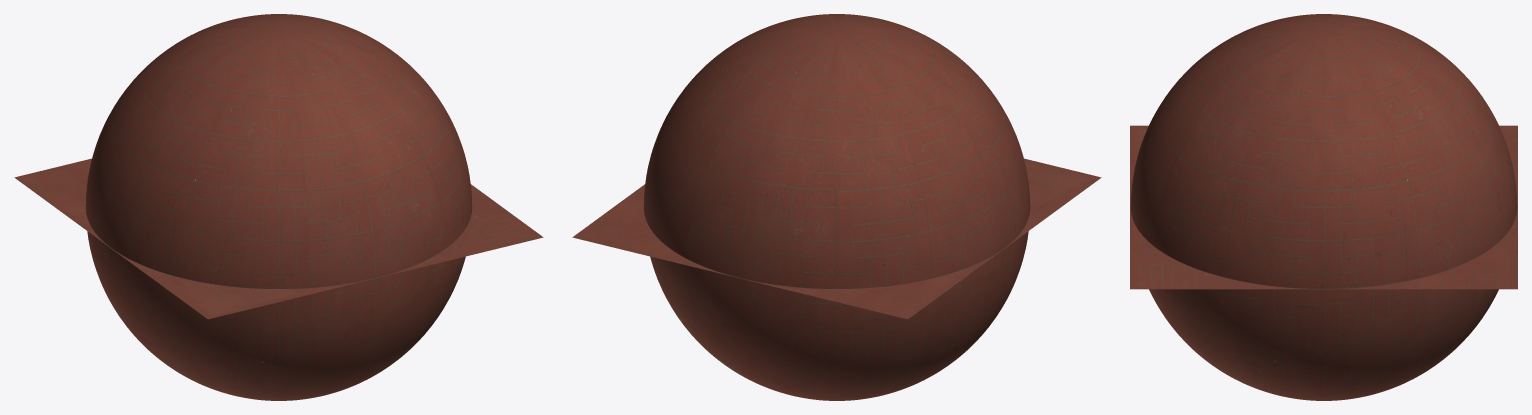
Rendered from red_brick_pavers_2k.fbx.
3 views of the same model, side by side, from view 1: azimuth 30°, elevation 25°; view 2: azimuth 150°, elevation 25°; view 3: azimuth 270°, elevation 25° (orthographic).
Visible parts, largest first — view 1: Sphere, Plane; view 2: Sphere, Plane; view 3: Sphere, Plane.
Boxes of the visible parts, <box> form: Sphere: <box>85,14,472,400</box>; Plane: <box>14,158,543,319</box>; Sphere: <box>643,14,1030,400</box>; Plane: <box>572,158,1101,319</box>; Sphere: <box>1130,14,1517,400</box>; Plane: <box>1130,125,1517,289</box>.
Size of the model in its own units: 180 by 180 by 180.
